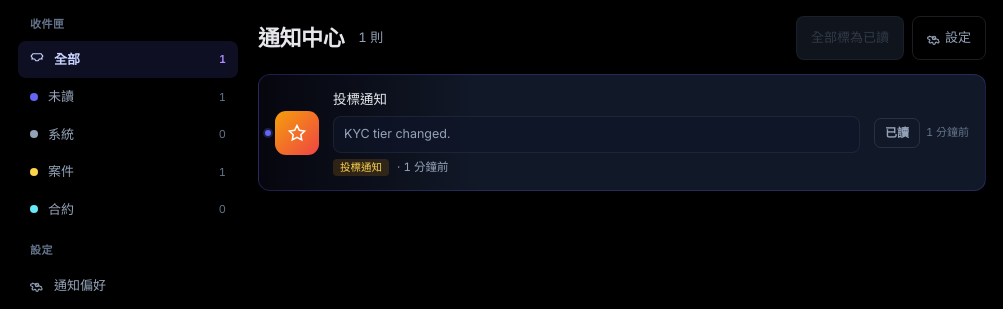
it: NotificationsPage › (interaction-2) 合約 tab shows empty-state when no contract notifications
What coordinates should you click on to do the following:
click the button with aria-label "篩選：合約"
I would click on:
 (128, 209)
Its box is [18,190,238,228].
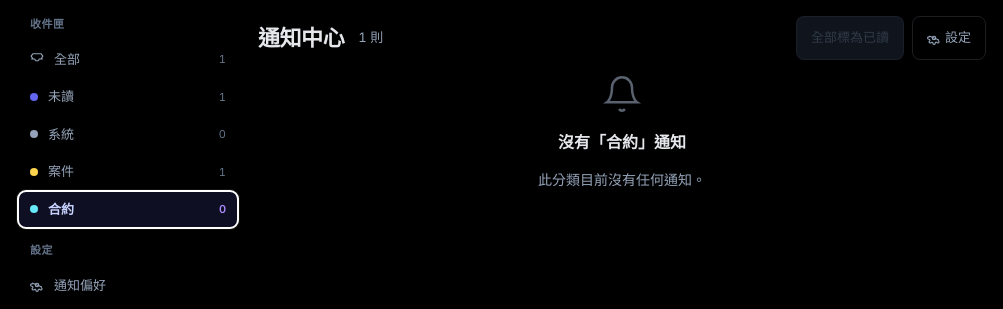
Check: the text "沒有「合約」通知" is shown, box [558,130,686,154]
